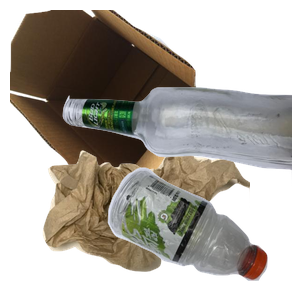cardboard: (10, 10, 218, 190)
glass: (60, 84, 300, 260)
plastic: (105, 165, 300, 300)
trash: (40, 138, 280, 300)
